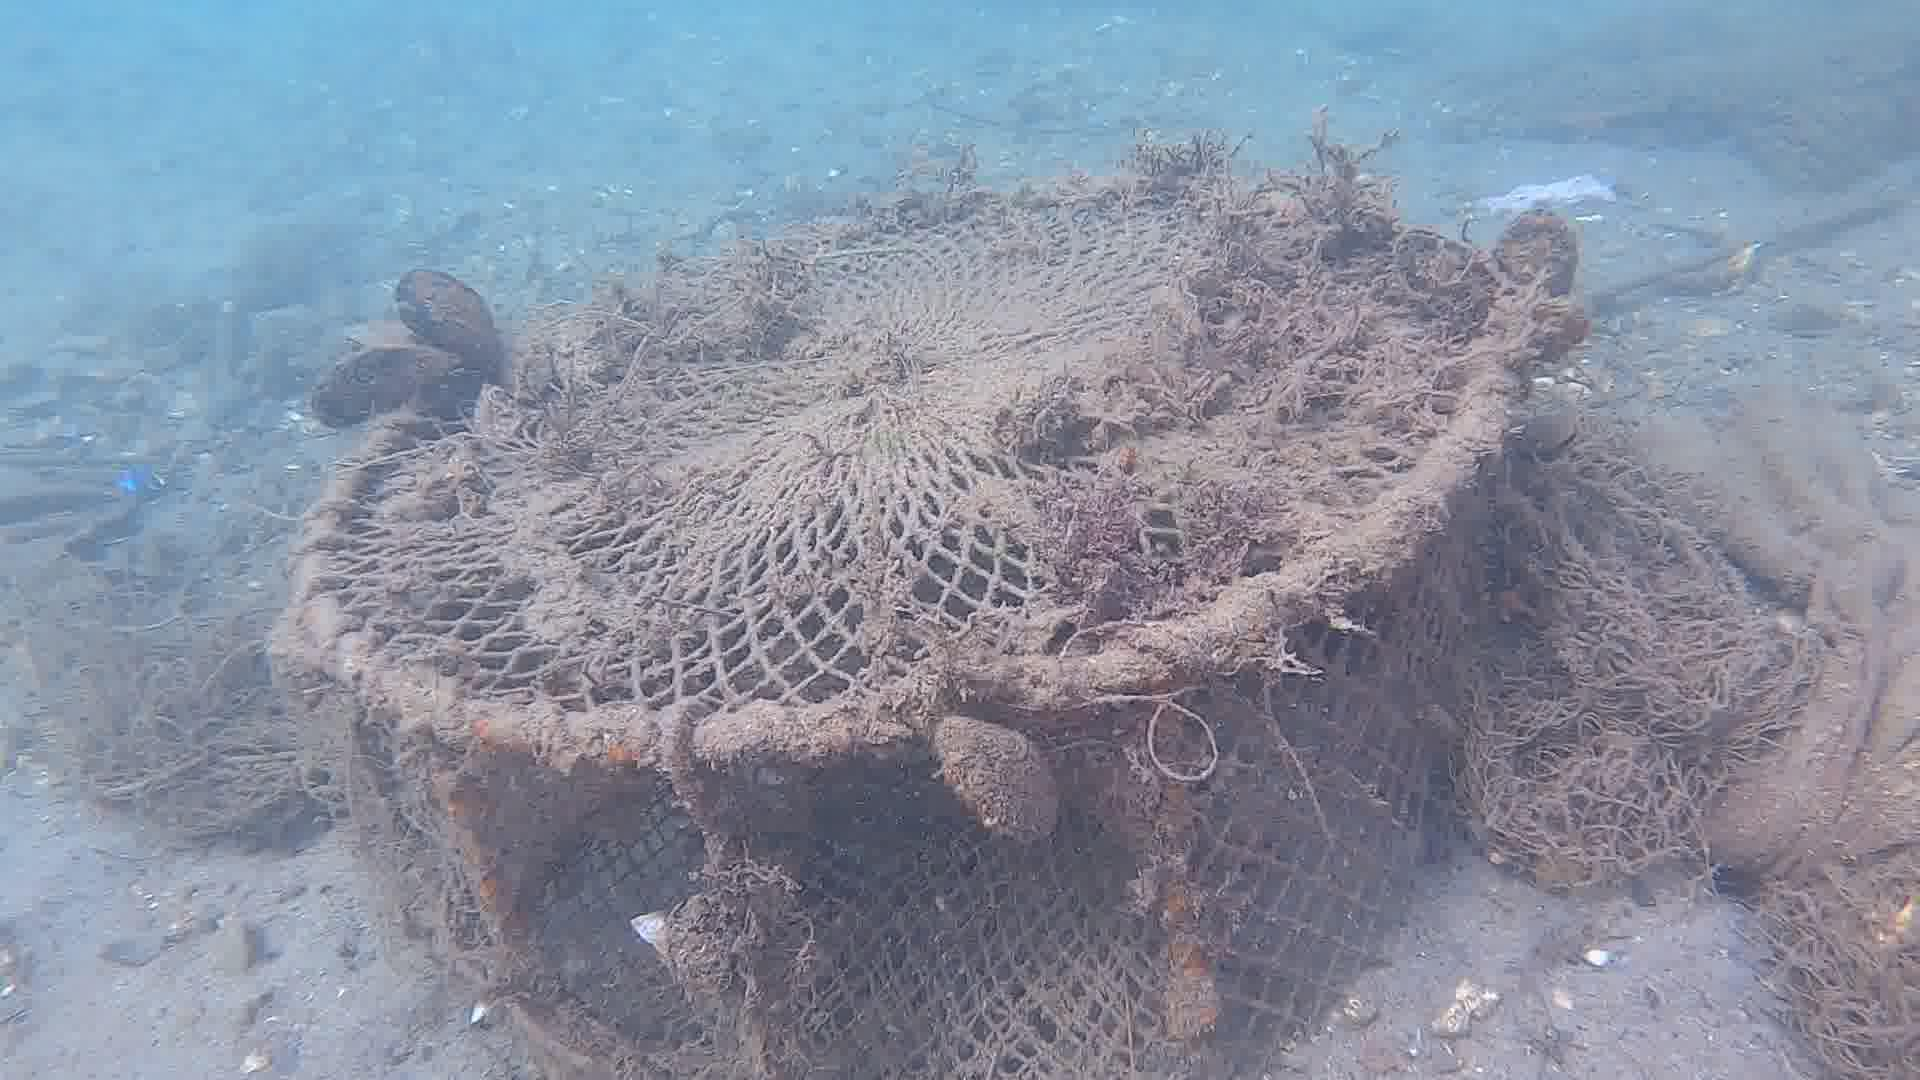circular fish trap: (285, 167, 1545, 1080)
